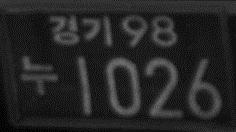0: (104, 56, 141, 118)
1: (69, 56, 100, 116)
2: (145, 56, 184, 120)
6: (186, 56, 222, 119)
8: (150, 14, 177, 48)
9: (121, 13, 148, 47)
경기_O: (48, 14, 114, 47)
누: (21, 55, 59, 96)
